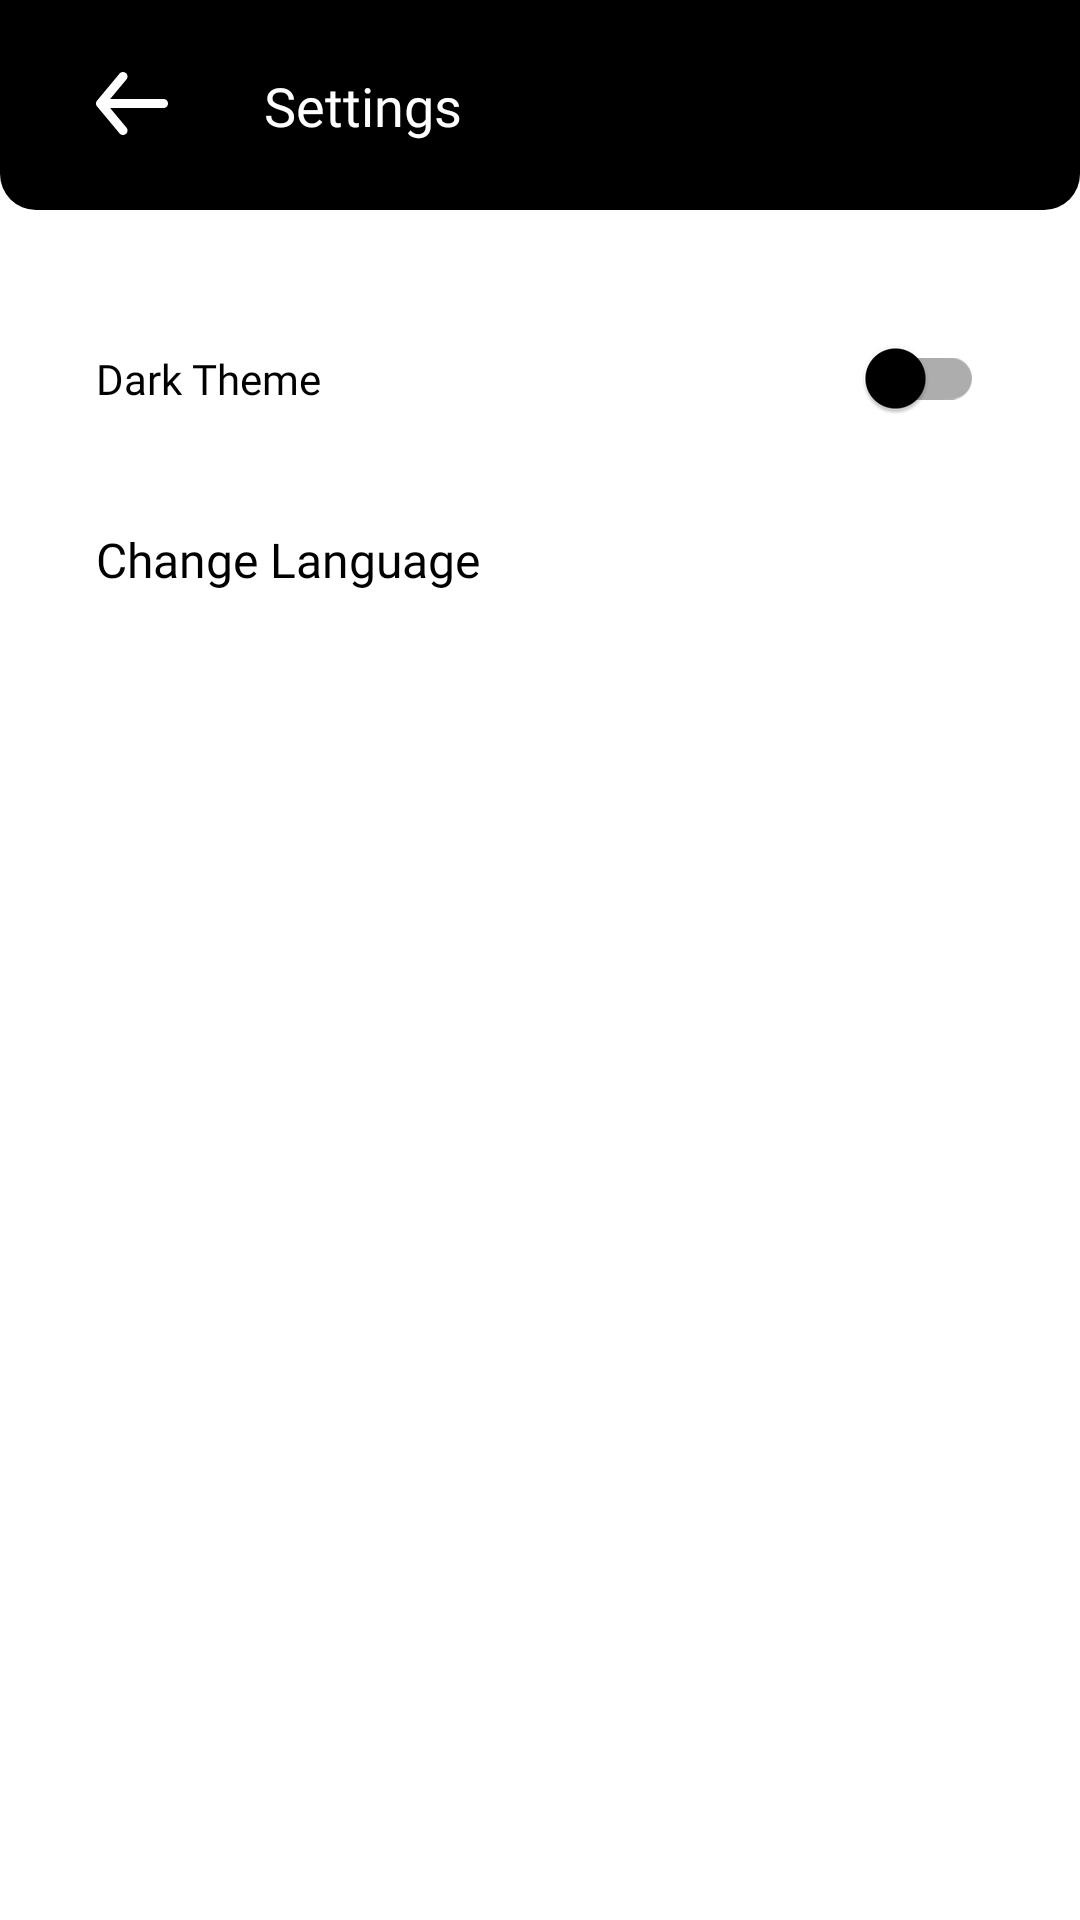

Where icons sit on this 1080px×1920px app screen, as Rect(x1, y1, x2, y2):
back: Rect(96, 72, 168, 135)
